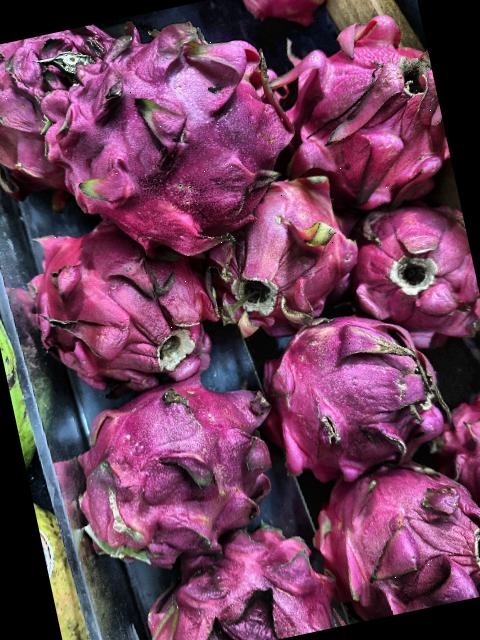buah-naga-matang: (23, 4, 290, 258), (60, 358, 295, 570), (12, 198, 223, 398), (234, 286, 454, 476), (264, 12, 458, 224), (296, 447, 480, 628), (328, 181, 480, 366), (126, 514, 341, 640), (199, 174, 366, 336), (0, 23, 123, 181), (439, 397, 480, 586)
